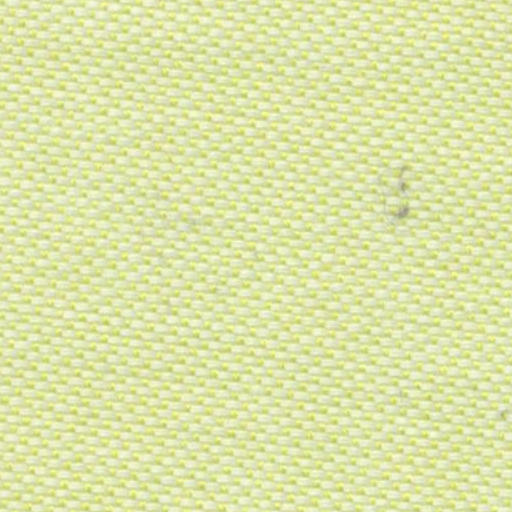WuZi: (369, 152, 437, 238)
